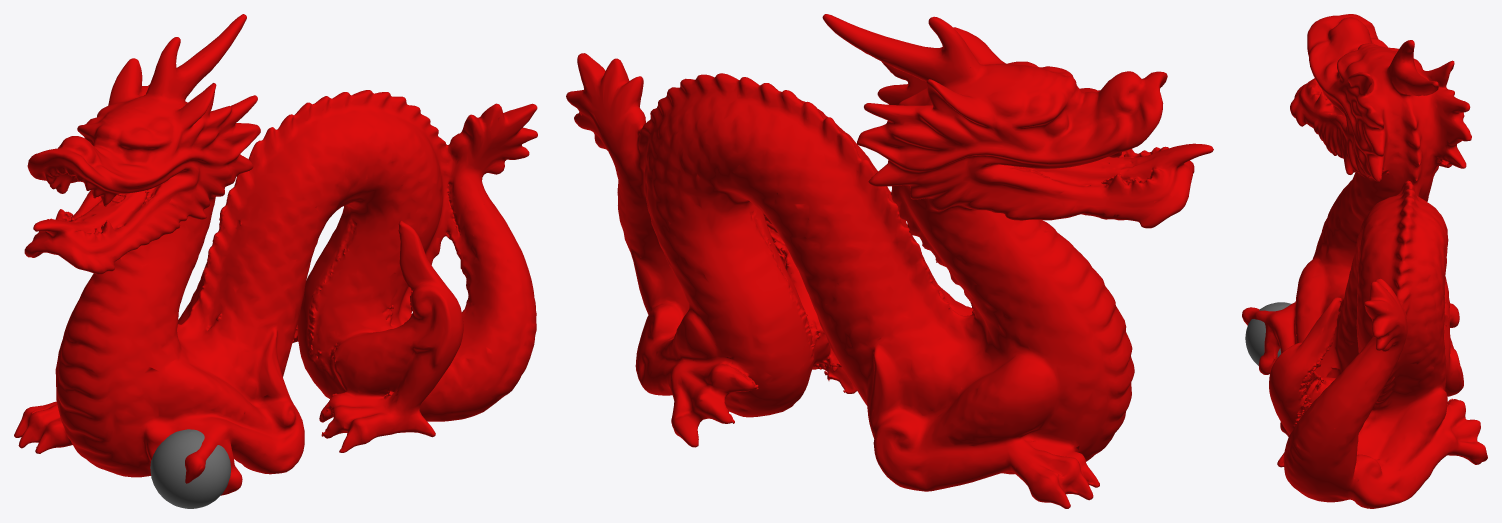
Rendered from chinesedragon.gltf.
3 views of the same model, side by side, from view 1: azimuth 30°, elevation 25°; view 2: azimuth 150°, elevation 25°; view 3: azimuth 270°, elevation 25° (orthographic). The views are drawn at different scales.
Parts seen in each view (by area): view 1: objdefault, Sphere03.001; view 2: objdefault; view 3: objdefault, Sphere03.001.
Part boxes in pixels (box(x1,y1,x2,y2)): objdefault: box(14, 14, 537, 495); Sphere03.001: box(150, 429, 231, 508); objdefault: box(566, 14, 1213, 508); objdefault: box(1242, 14, 1487, 508); Sphere03.001: box(1245, 302, 1291, 365).
Bounding box in the file's own units: 2.99 × 2.14 × 1.34.
